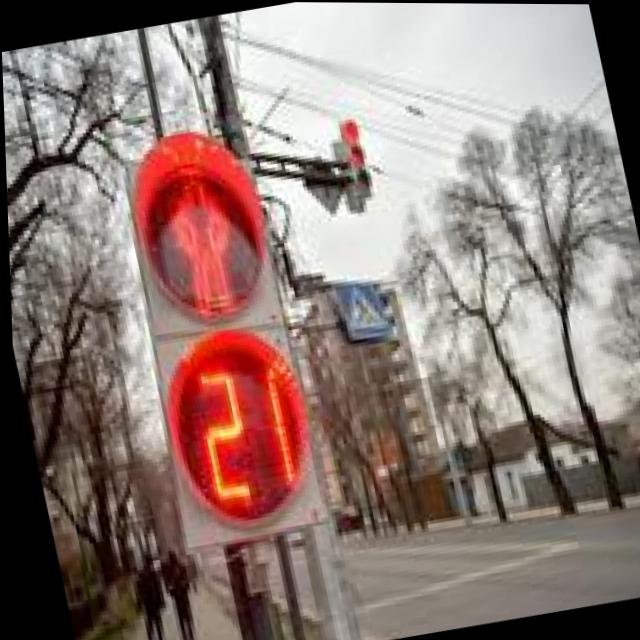red_light: (121, 313, 390, 543), (81, 127, 330, 346)
